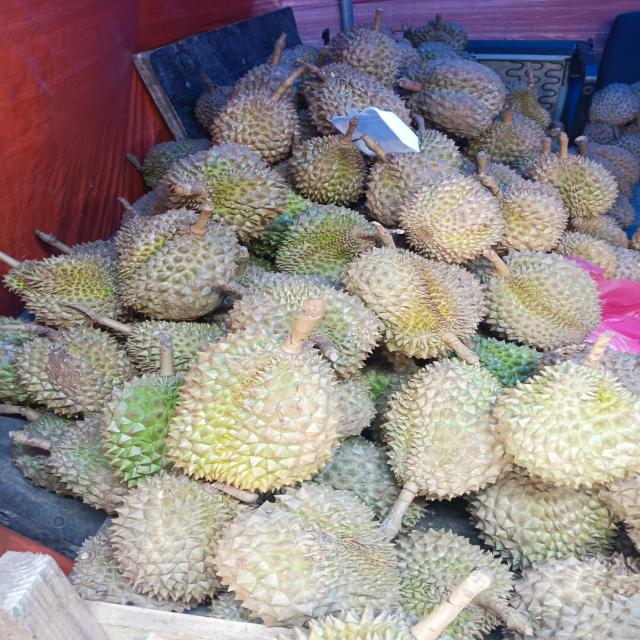mature: (164, 336, 356, 501), (215, 483, 400, 626), (493, 332, 640, 487), (381, 361, 504, 539), (108, 471, 243, 606), (343, 247, 486, 365), (343, 247, 486, 358), (231, 274, 380, 378), (112, 202, 242, 321), (466, 467, 615, 569), (397, 529, 532, 640), (101, 334, 184, 488), (161, 143, 288, 239), (502, 549, 638, 638), (9, 414, 128, 513), (483, 250, 601, 349), (15, 327, 133, 417), (67, 304, 219, 372), (397, 174, 505, 263), (0, 252, 124, 327), (212, 66, 304, 163), (397, 57, 505, 138), (361, 135, 454, 226), (311, 436, 401, 520), (275, 205, 376, 279), (530, 133, 618, 217), (329, 9, 420, 87), (292, 117, 366, 205), (466, 104, 546, 171), (499, 180, 567, 251), (230, 32, 296, 98), (125, 139, 209, 189), (230, 32, 292, 97), (554, 232, 618, 278), (413, 115, 461, 167), (401, 504, 422, 530)
